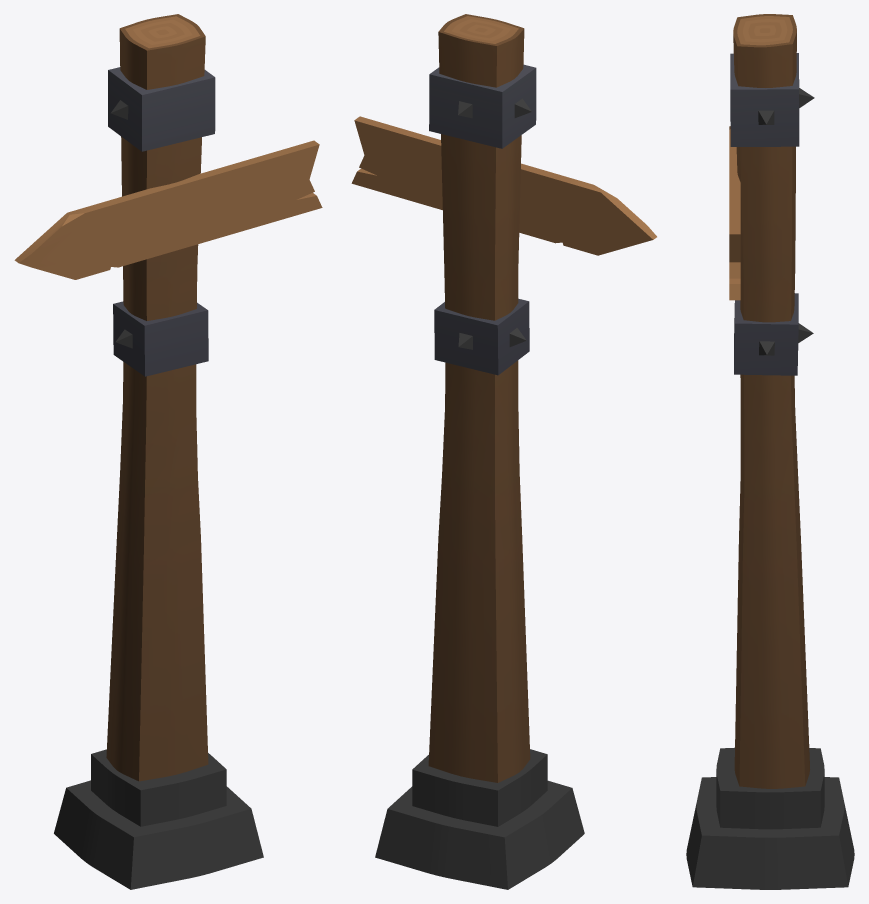
File: Pointer_03.glb
The picture shows the model from 3 angles, left to right: view 1: azimuth 30°, elevation 25°; view 2: azimuth 150°, elevation 25°; view 3: azimuth 270°, elevation 25°; orthographic projection.
Visible parts, largest first — view 1: Pointer_03_LOD0; view 2: Pointer_03_LOD0; view 3: Pointer_03_LOD0.
Part boxes in pixels (x1,y1,x2,y2): Pointer_03_LOD0: (14, 14, 322, 889); Pointer_03_LOD0: (351, 14, 656, 889); Pointer_03_LOD0: (686, 14, 854, 889).
Size of what is drawn, in the model's own units: 0.984 by 2.54 by 0.4685.
Materials: 1 (1 with a texture image).
